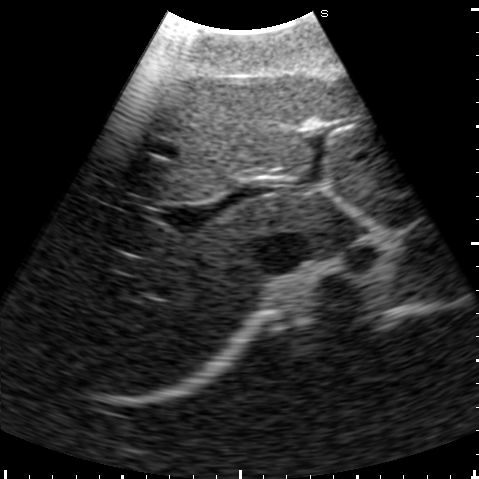IVC: (253, 234, 310, 272)
S1: (270, 194, 352, 249)
S2: (328, 183, 426, 229)
S3: (312, 77, 409, 195)
S4: (123, 73, 328, 203)
